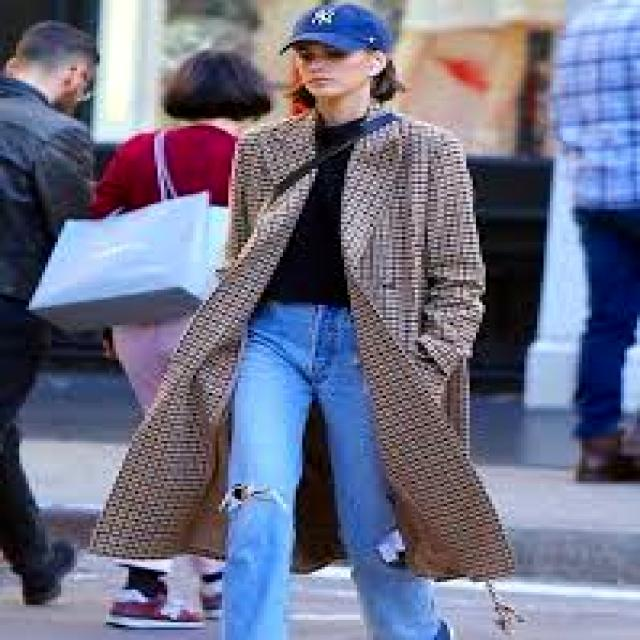hat: (280, 3, 392, 52)
lower-wear: (222, 303, 440, 639), (576, 212, 639, 438)
